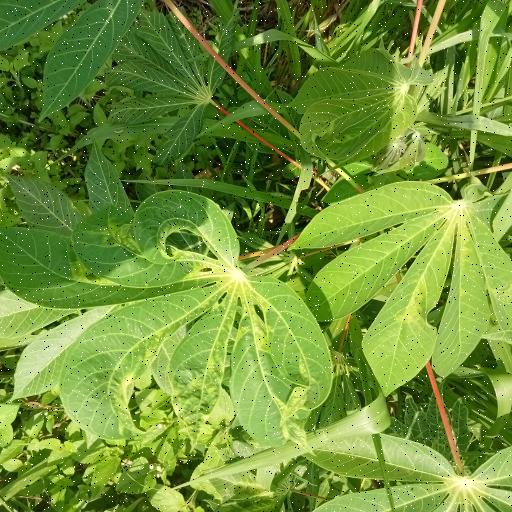Cassava_Healthy: (0, 189, 333, 443), (304, 179, 510, 393), (104, 16, 236, 169), (291, 54, 431, 165)
